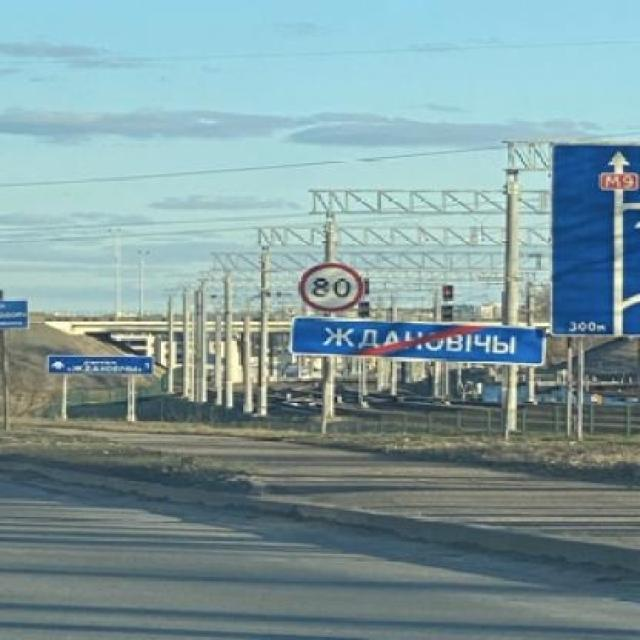forb_speed_over_80: (299, 262, 364, 313)
